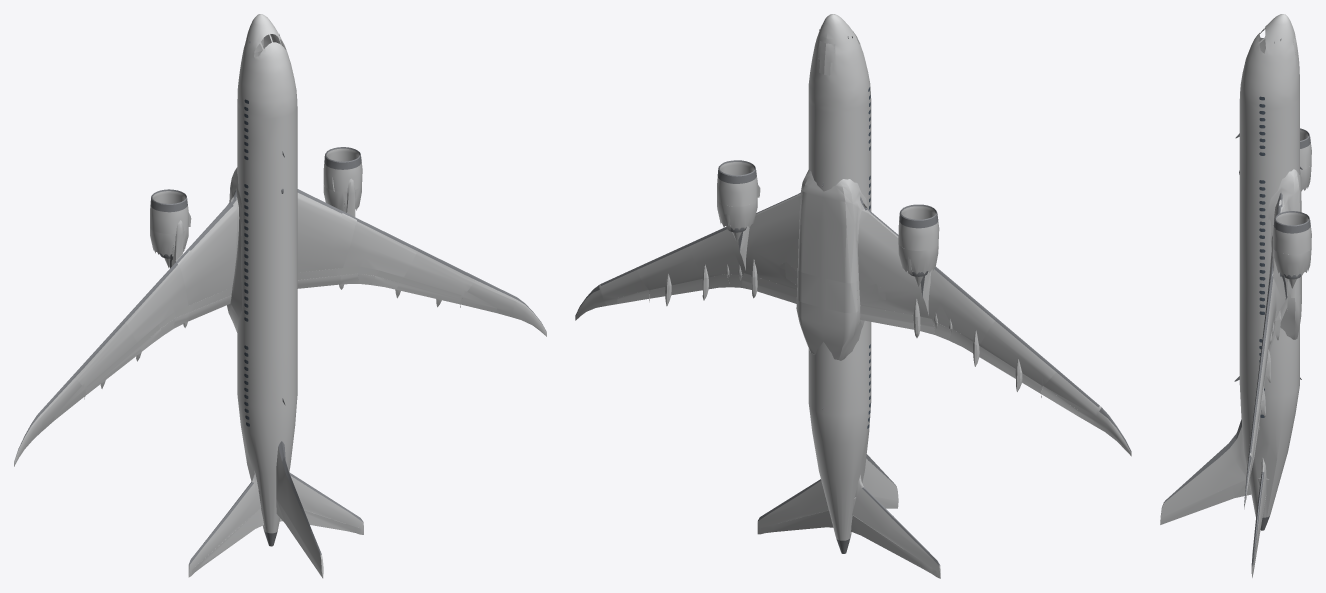
3 views of the same model, side by side, from view 1: azimuth 30°, elevation 25°; view 2: azimuth 150°, elevation 25°; view 3: azimuth 270°, elevation 25° (orthographic). The views are drawn at different scales.
Visible parts, largest first — view 1: B788; view 2: B788; view 3: B788.
Part boxes in pixels (box(x1,y1,x2,y2)): B788: box(14, 14, 546, 578); B788: box(575, 14, 1131, 578); B788: box(1160, 14, 1311, 577).
Size of the model in its own units: 59.58 by 56.72 by 14.93.
